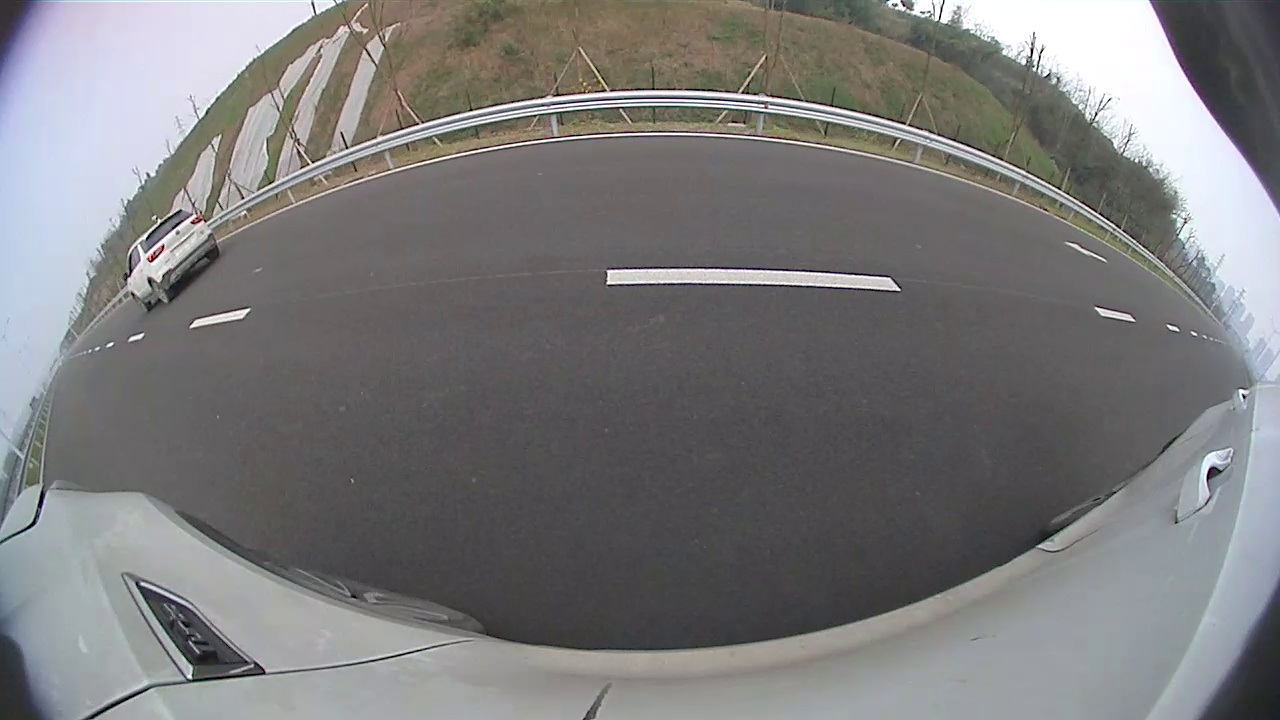car: (750, 141, 889, 223)
front: (751, 175, 767, 203)
rear: (793, 180, 817, 217)
